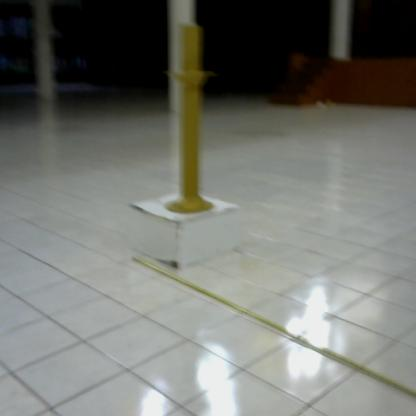pole: (162, 19, 224, 220)
